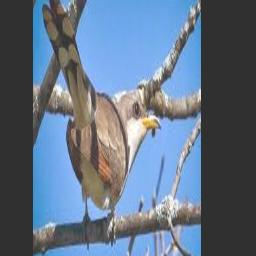Cuckoo: (43, 0, 161, 225)
